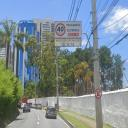speed_limit_40: (55, 23, 66, 36)
